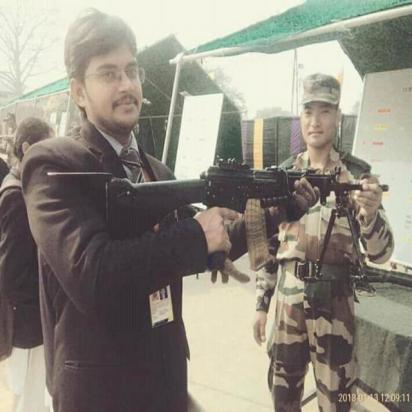Gun: (104, 152, 390, 300)
